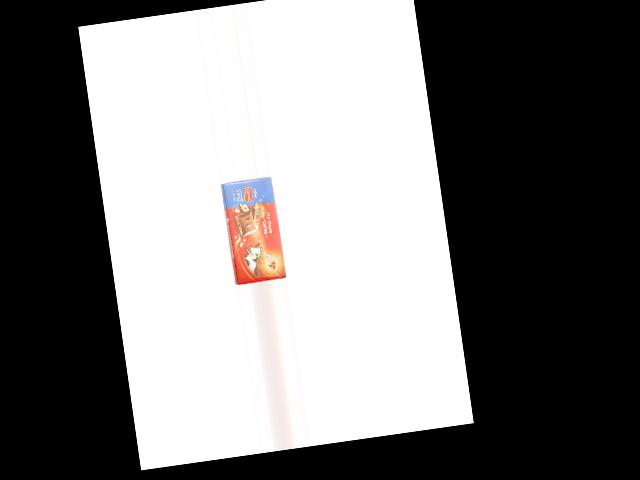chocolate: (221, 176, 285, 286)
